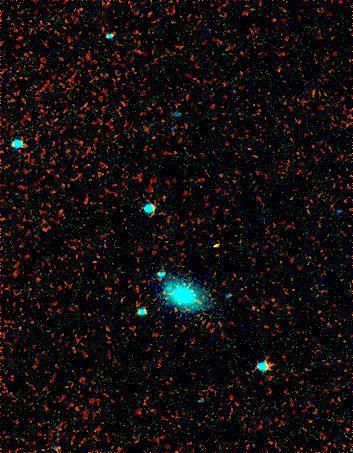star: (193, 222, 223, 252)
